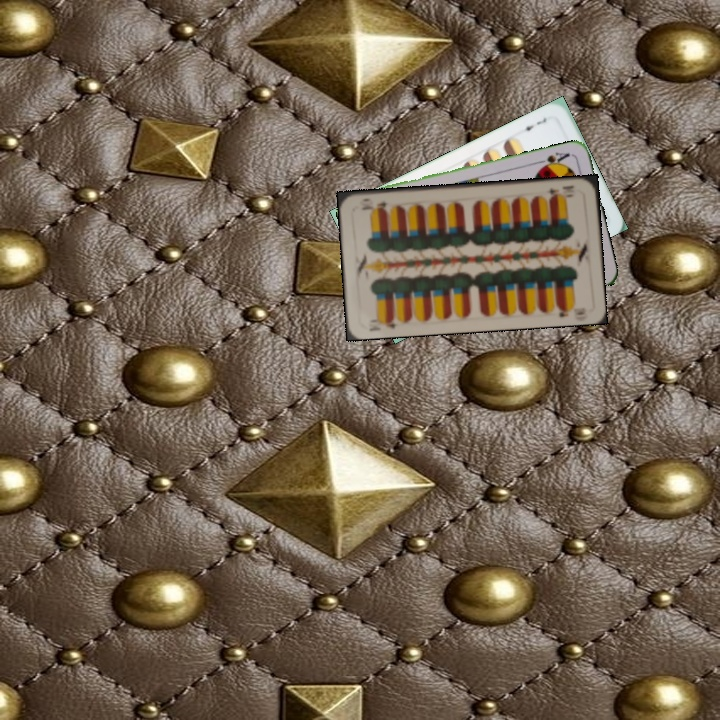E10: (365, 313, 400, 334), (541, 181, 577, 201)
E7: (517, 114, 549, 134)
SA: (534, 148, 572, 172)
